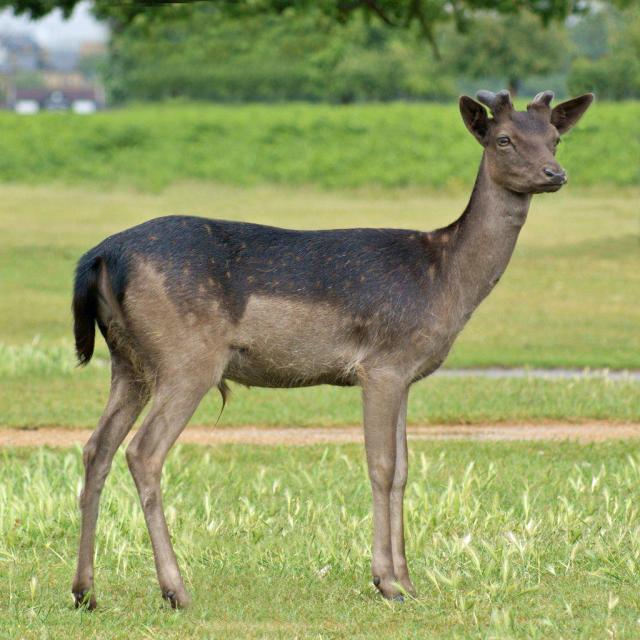Deer: (71, 90, 595, 611)
